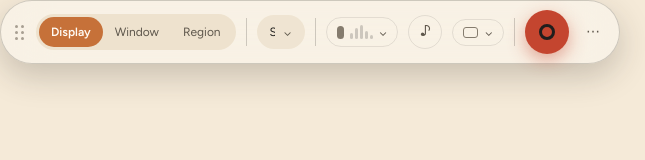
PreRecordContainer — source picker › window mode with no windows says so and disables Record
Click the radio button labelled "Window": coordinates (137, 32) [115, 25, 159, 39]
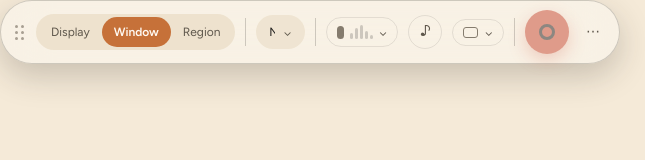
Expected: the button with test id "hud-source-chip" shows "No windows", [256, 15, 305, 49]
Expected: the button named "Start recording" is disabled, [525, 10, 569, 54]
